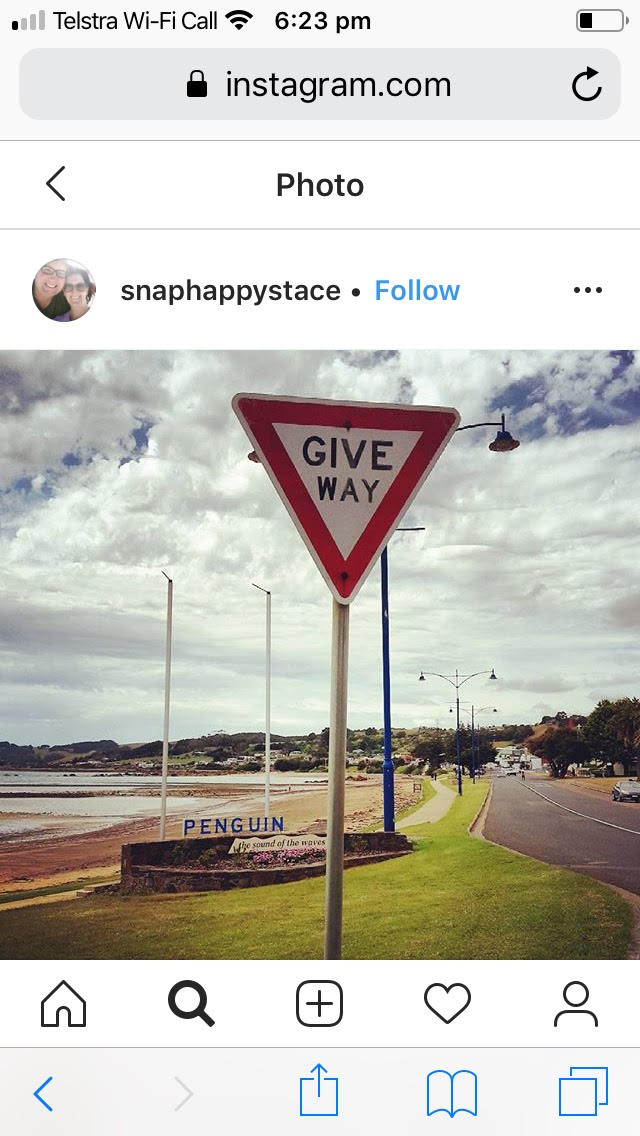giveway: (220, 383, 467, 618), (253, 448, 454, 602), (227, 394, 365, 592), (335, 394, 442, 597), (238, 395, 457, 487)
